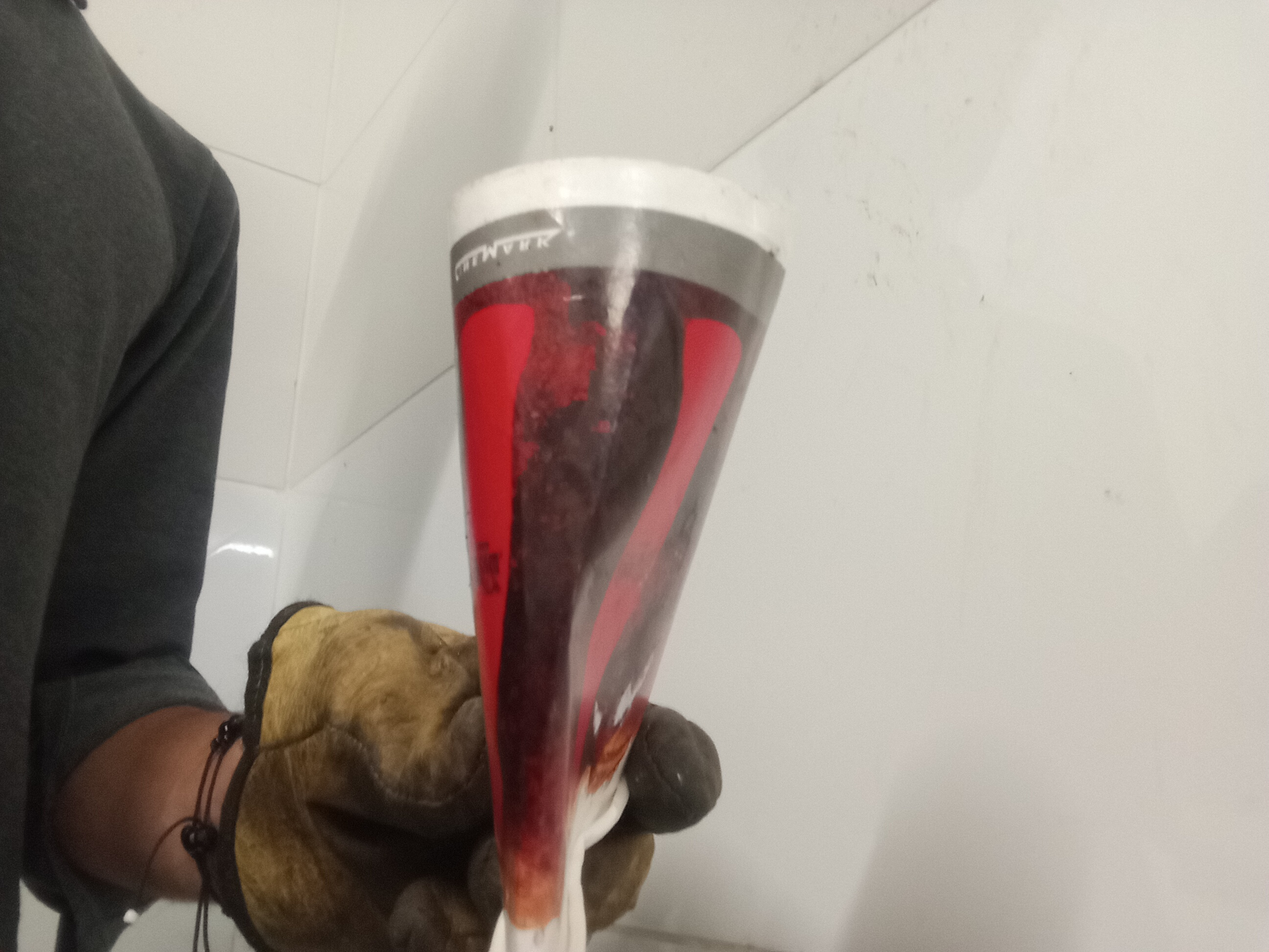Carton: (447, 161, 794, 952)
